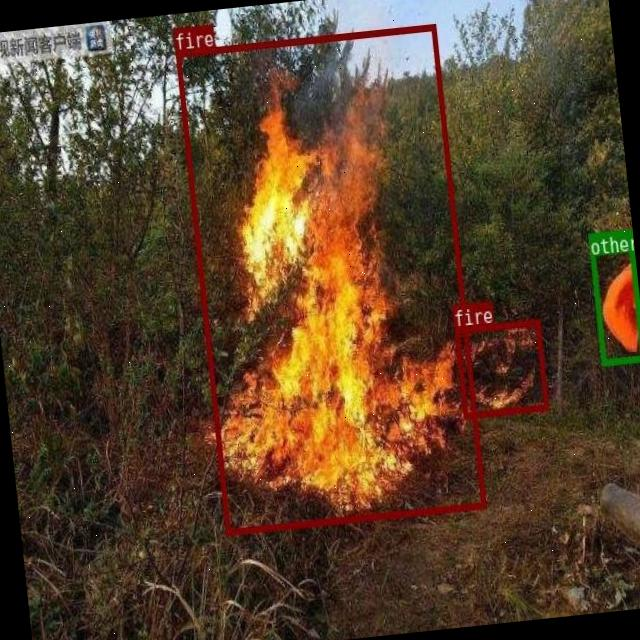fire: (174, 23, 484, 534), (454, 318, 548, 416)
